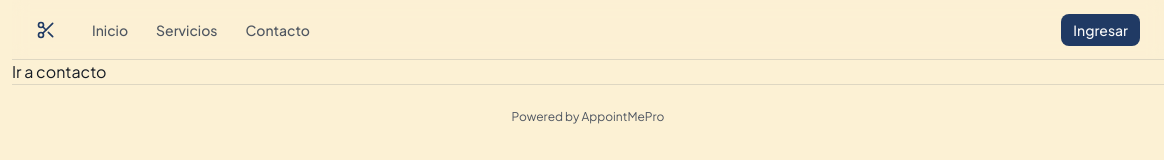
Test: Route scroll restoration › scrolls to top on public push navigation
Click the link "Ir a contacto" at [59, 72], box [12,61,106,82]
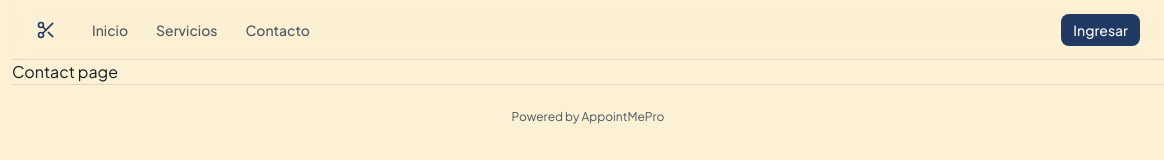
Expected: the text "Contact page" is shown, [12,61,118,82]
